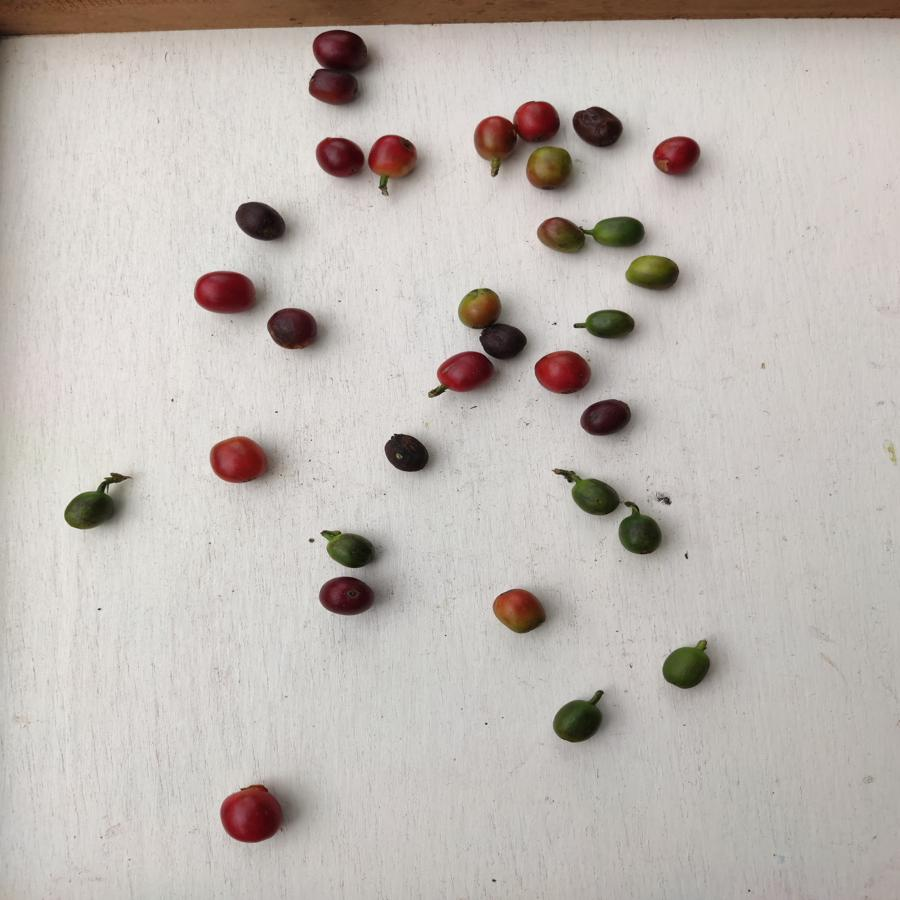Inmaduro: (549, 698, 605, 747), (568, 475, 623, 517), (323, 532, 381, 570), (64, 490, 116, 532), (658, 648, 712, 688), (583, 307, 637, 344), (619, 511, 663, 556), (589, 217, 646, 251)
Maduro: (216, 785, 286, 843), (191, 268, 257, 317), (209, 435, 269, 487), (535, 350, 593, 395), (437, 350, 493, 394), (368, 135, 419, 182), (652, 133, 700, 178), (515, 98, 560, 141)
Pinton: (491, 589, 549, 635), (527, 145, 575, 190), (471, 115, 516, 161), (627, 252, 679, 288), (538, 216, 584, 253), (458, 288, 501, 327)
Sobremaduro: (302, 67, 364, 109), (312, 29, 372, 71), (268, 307, 319, 354), (572, 105, 624, 149), (235, 201, 288, 244), (316, 135, 365, 179), (579, 398, 632, 438), (318, 578, 375, 614), (384, 433, 430, 473), (481, 323, 527, 358)
